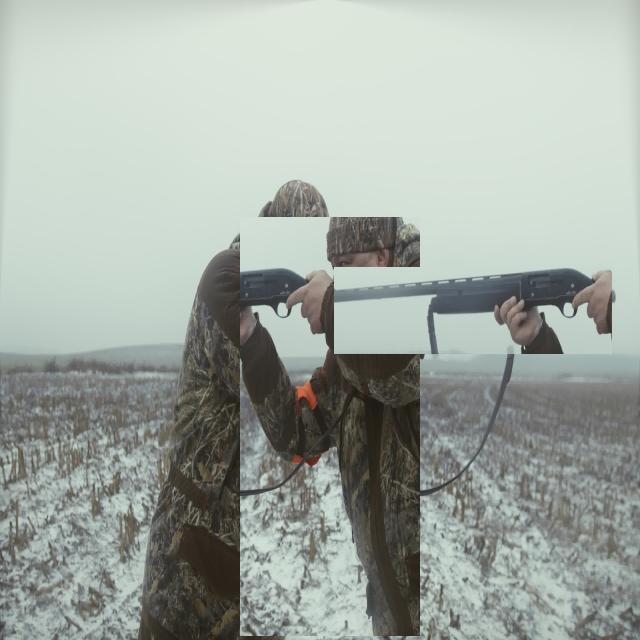poacher: (240, 217, 420, 636)
weapon: (334, 267, 612, 354)
